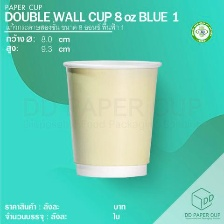paper_cup: (58, 55, 166, 183)
